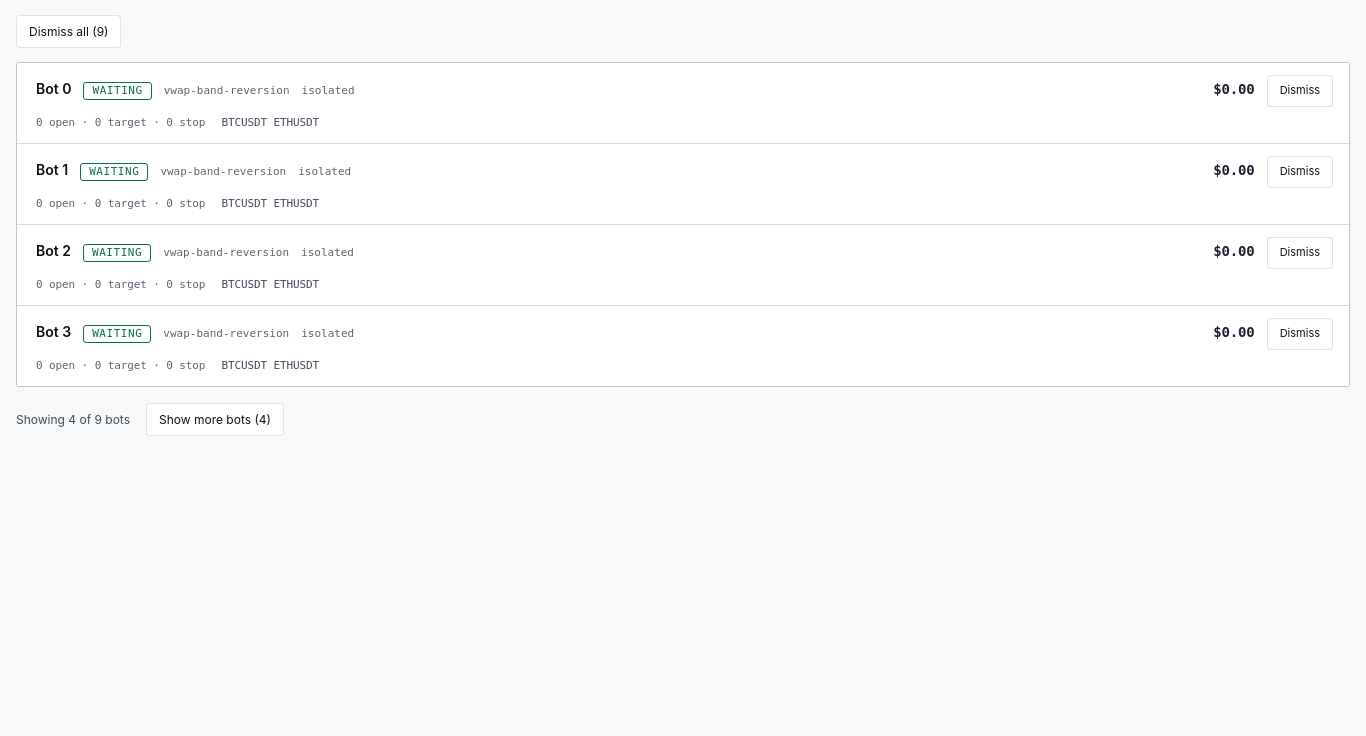
Scenario: shows four bots initially and expands four at a time
The image size is (1366, 736).
expect the text "Showing 4 of 9 bots" is shown: met, box [16,411,130,428]
expect the text "Bot 4" is not shown: met
Click the button "Show more bots (4)" at coordinates (215, 420), box [146,403,284,436]
(page scrolled)
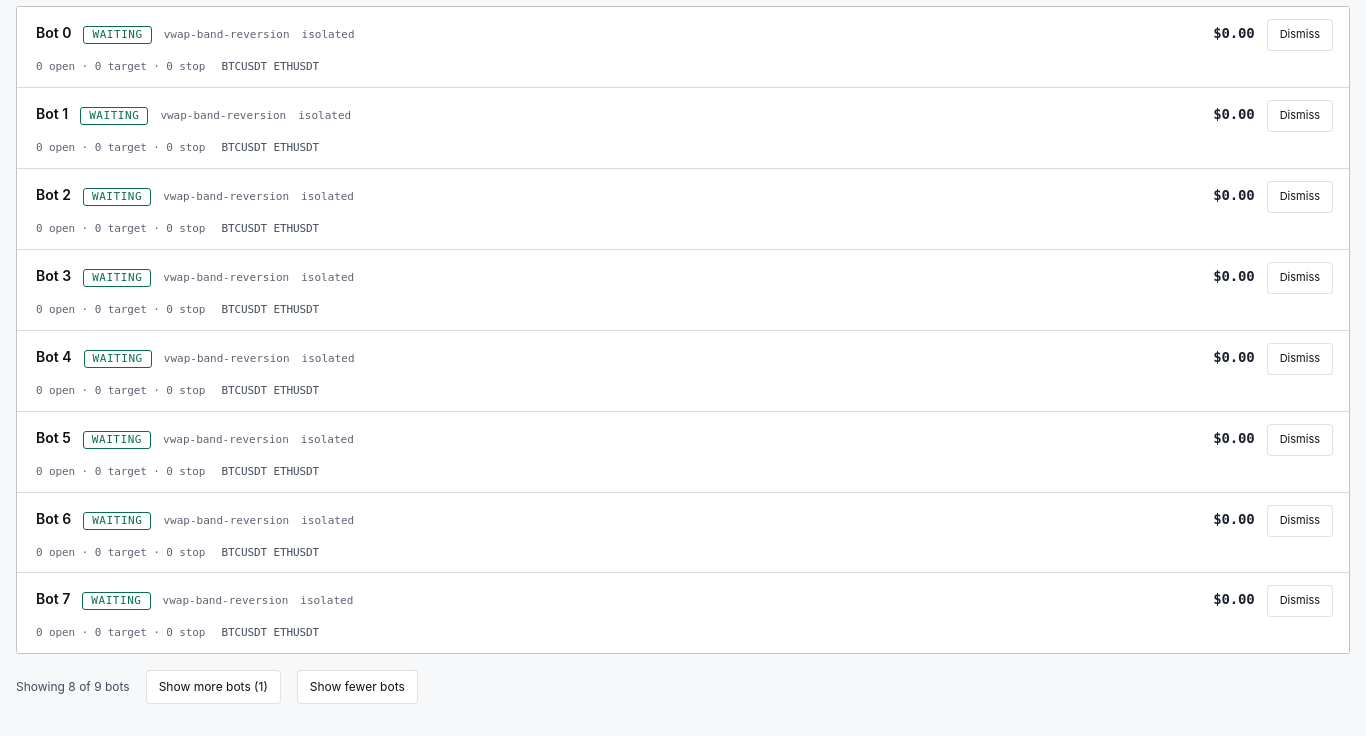
expect the text "Showing 8 of 9 bots" is shown: met, box [16,678,130,696]
Click the button "Show fewer bots" at coordinates (357, 687), box [297,670,418,704]
(page scrolled)
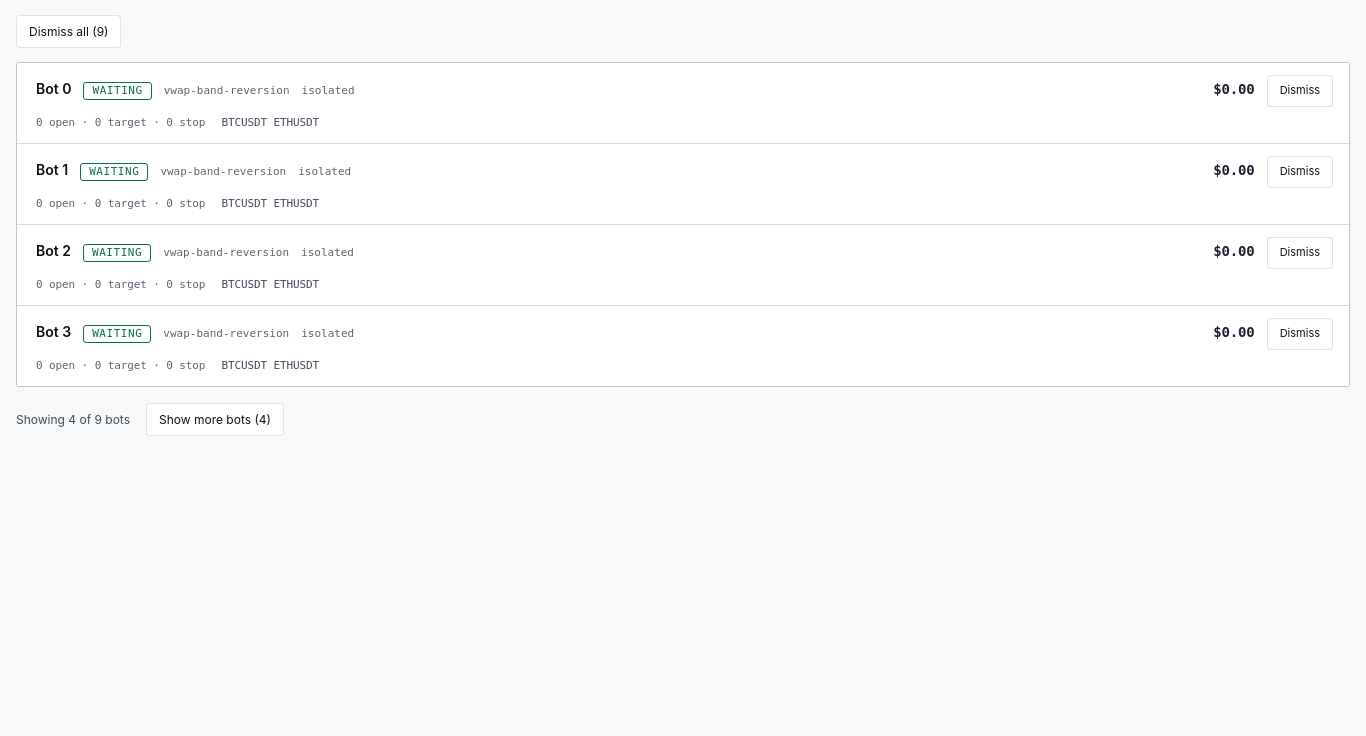
expect the text "Showing 4 of 9 bots" is shown: met, box [16,411,130,428]
